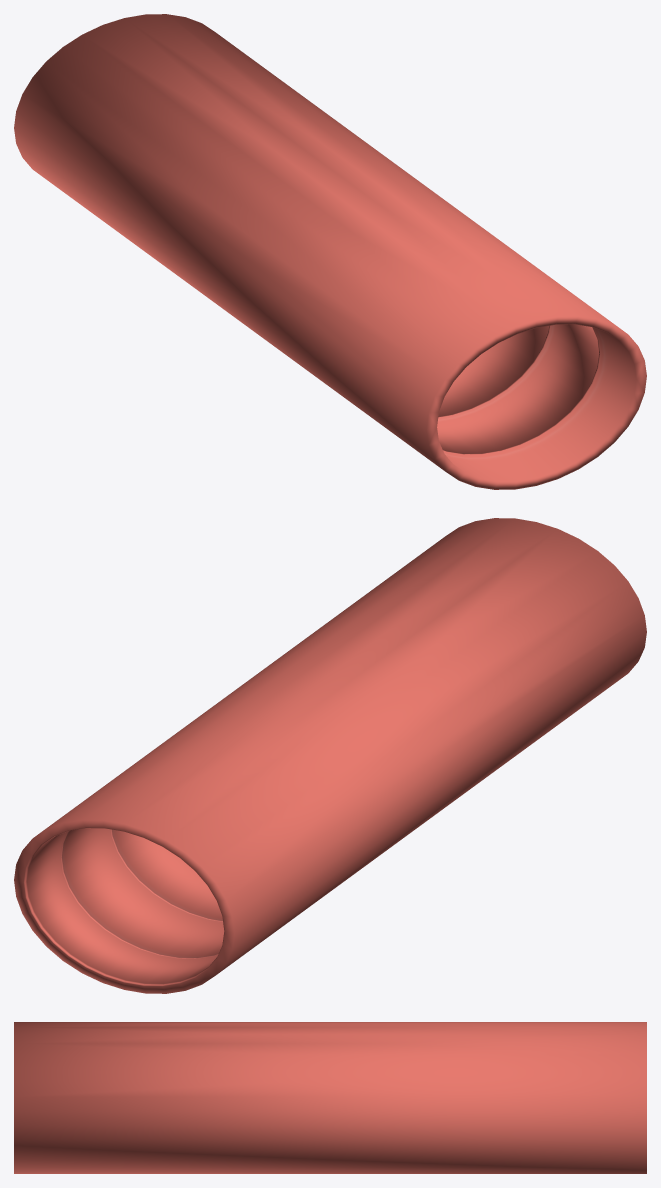
File: wall.obj
3 views of the same model, one above another, from view 1: azimuth 30°, elevation 25°; view 2: azimuth 150°, elevation 25°; view 3: azimuth 270°, elevation 25° (orthographic). The views are drawn at different scales.
Parts seen in each view (by area): view 1: 円柱; view 2: 円柱; view 3: 円柱.
Part boxes in pixels (x1,y1,x2,y2): 円柱: [14, 14, 646, 489]; 円柱: [14, 518, 646, 993]; 円柱: [14, 1022, 646, 1173].
Bounding box in the file's own units: 2 × 1.44 × 6.48.
1 material, 1 textured.
